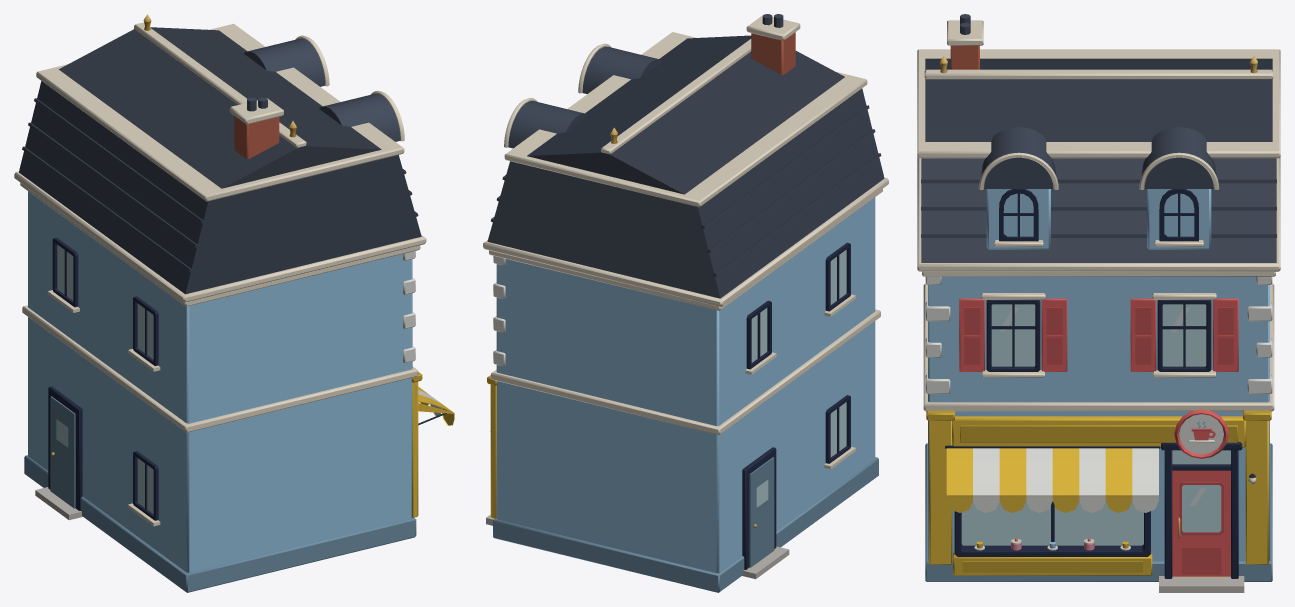
Rendered from house_c.glb.
The picture shows the model from 3 angles, left to right: view 1: azimuth 30°, elevation 25°; view 2: azimuth 150°, elevation 25°; view 3: azimuth 270°, elevation 25°; orthographic projection. The views are drawn at different scales.
Visible parts, largest first — view 1: HouseC; view 2: HouseC; view 3: HouseC.
Boxes of the visible parts, bbox=[...] form: HouseC: bbox=[14, 14, 454, 592]; HouseC: bbox=[483, 14, 888, 592]; HouseC: bbox=[917, 14, 1280, 592].
Size of the model in its own units: 6.7 by 10.12 by 6.8.
